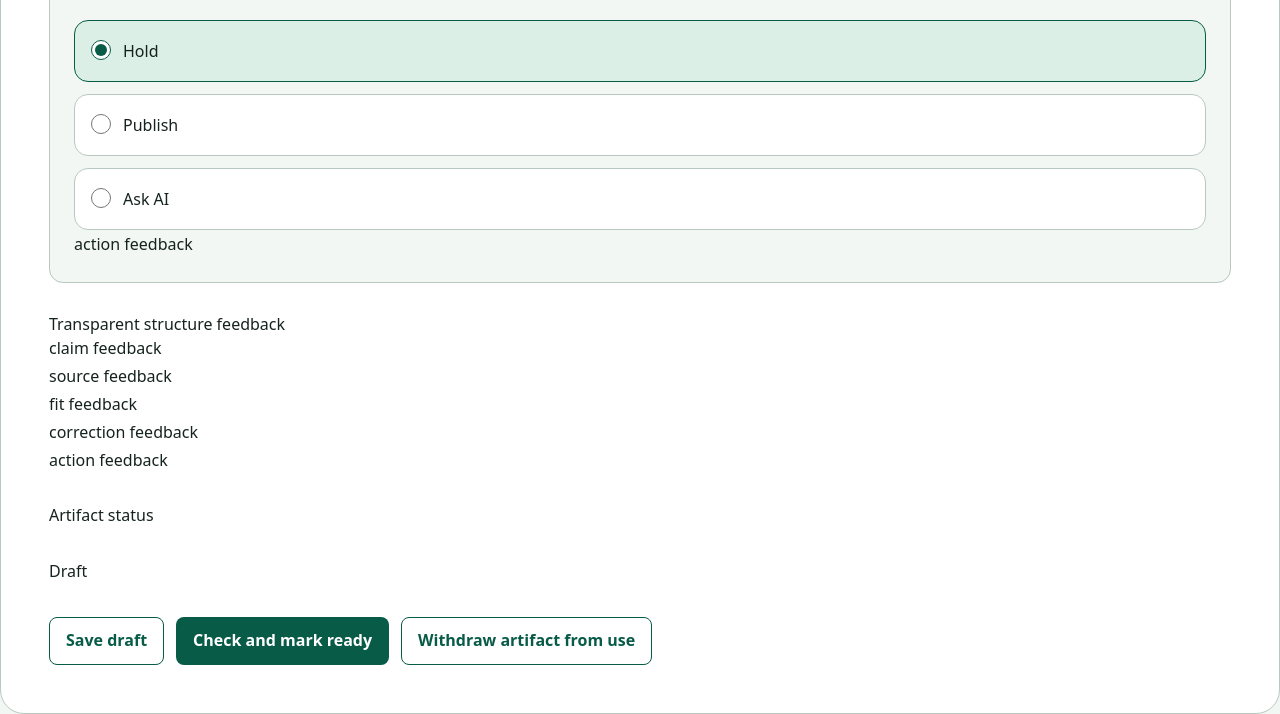
Test case: private evidence artifact › saves the canonical structure before ready and makes the result read-only
(page scrolled)
Click the button "Check and mark ready" at coordinates (283, 641), box x1=176 y1=617 x2=389 y2=665
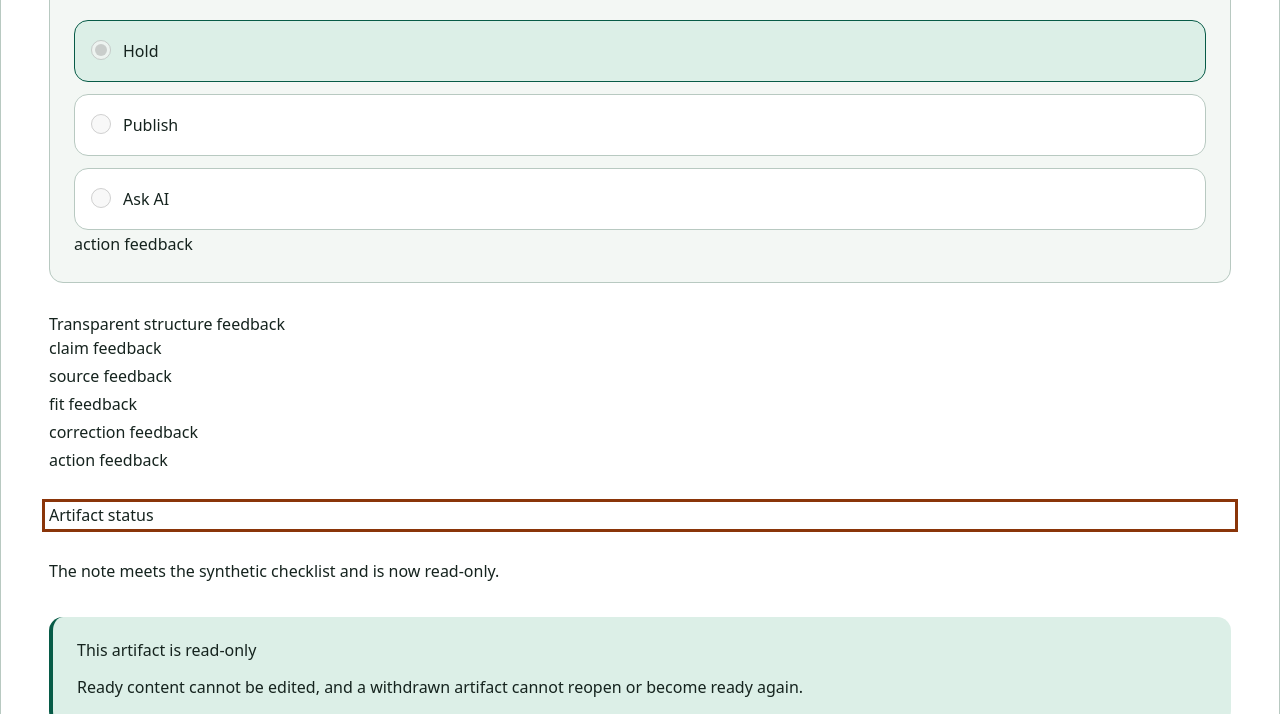
Now the text "Ready content cannot be edited, and a withdrawn artifact cannot reopen or become ready again." is shown, box x1=77 y1=676 x2=803 y2=698
Now the button "Save draft" is gone
